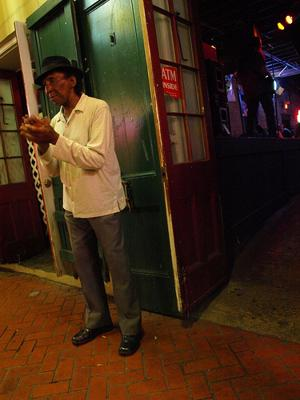person: (19, 56, 147, 362)
